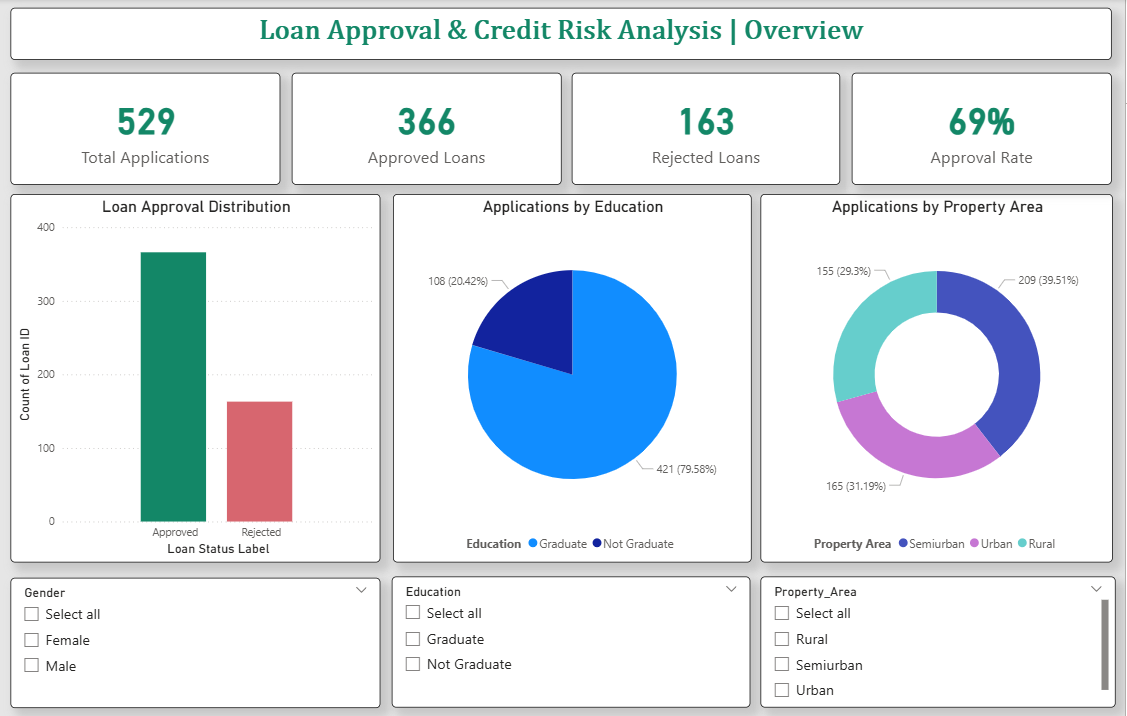

The page's visual inventory and layout, read from the dashboard file:
{"tool":"powerbi","page":{"name":"Loan Approval Overview","canvas":[1280,820],"ordinal":0},"visuals":[{"type":"textbox","box":[14.1,9.9,1250.6,59.3],"z":0},{"type":"card","title":"Total Applications","fields":{"Values":["CountNonNull(loan_analytics loan_clean.Loan_ID)"]},"box":[14.1,83.3,306.3,127],"z":1000},{"type":"card","fields":{"Values":["CountNonNull(loan_analytics loan_clean.Loan_ID)"]},"box":[333.1,83.3,306.3,127],"z":2000},{"type":"card","fields":{"Values":["CountNonNull(loan_analytics loan_clean.Loan_ID)"]},"box":[652.1,83.3,304.9,127],"z":3000},{"type":"clusteredColumnChart","title":"Loan Approval Distribution","fields":{"Y":["CountNonNull(loan_clean.Loan_ID)"],"Category":["loan_clean.Loan_Status_Label"]},"box":[14.2,221.4,420.1,418.7],"z":4000},{"type":"pieChart","title":"Applications by Education","fields":{"Category":["loan_clean.Education"],"Y":["CountNonNull(loan_clean.Loan_ID)"]},"box":[448.5,221.4,407.4,418.7],"z":5000},{"type":"donutChart","title":"Applications by Property Area","fields":{"Category":["loan_clean.Property_Area"],"Y":["CountNonNull(loan_clean.Loan_ID)"]},"box":[865.8,221.4,400.3,418.7],"z":6000},{"type":"slicer","fields":{"Values":["loan_clean.Gender"]},"box":[14.2,657.2,420.1,147.6],"z":7000},{"type":"slicer","fields":{"Values":["loan_clean.Education"]},"box":[447.1,655.8,407.4,149],"z":8000},{"type":"slicer","fields":{"Values":["loan_clean.Property_Area"]},"box":[865.8,655.8,403.1,149],"z":9000},{"type":"card","fields":{"Values":["loan_clean.Approval Rate"]},"box":[969.7,83.3,295,127],"z":10000}]}

Visuals, with their boxes in screenshot pixels (x1, y1, x2, y2), scaled from the page's 1280x820 canvas onto the 1127x716 screenshot:
textbox: 12 9 1114 60
"Total Applications" card: 12 73 282 184
card - CountNonNull(loan_analytics loan_clean.Loan_ID): 293 73 563 184
card - CountNonNull(loan_analytics loan_clean.Loan_ID): 574 73 843 184
"Loan Approval Distribution" clusteredColumnChart: 13 193 382 559
"Applications by Education" pieChart: 395 193 754 559
"Applications by Property Area" donutChart: 762 193 1115 559
slicer - loan_clean.Gender: 13 574 382 703
slicer - loan_clean.Education: 394 573 752 703
slicer - loan_clean.Property_Area: 762 573 1117 703
card - loan_clean.Approval Rate: 854 73 1114 184
